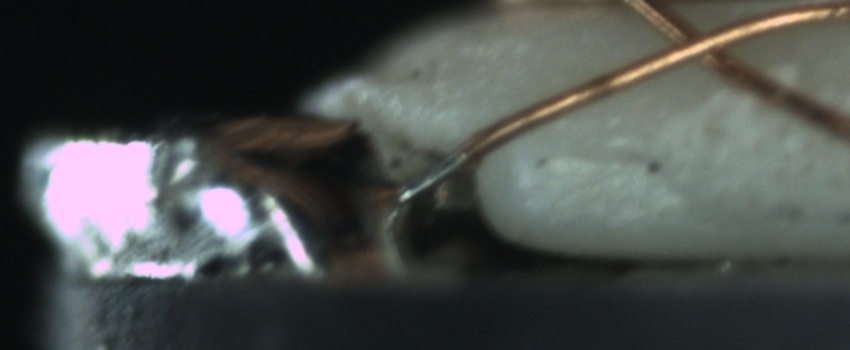CL: (648, 13, 749, 77)
DL: (524, 132, 664, 183)
TS: (394, 147, 466, 205)
